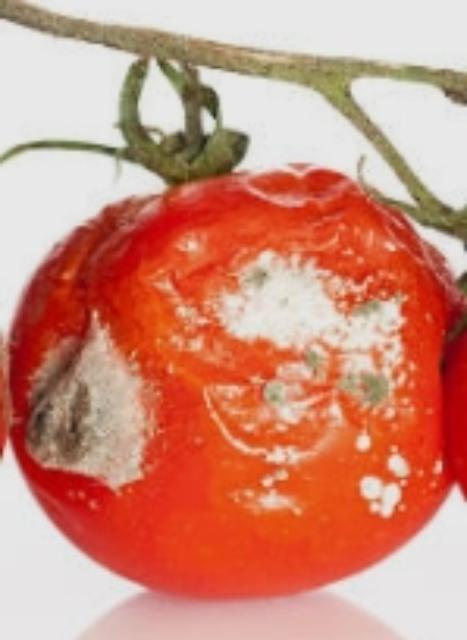defect: (7, 166, 457, 605)
